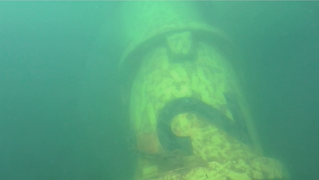2: (156, 90, 256, 157)
pipe: (115, 1, 289, 180)
